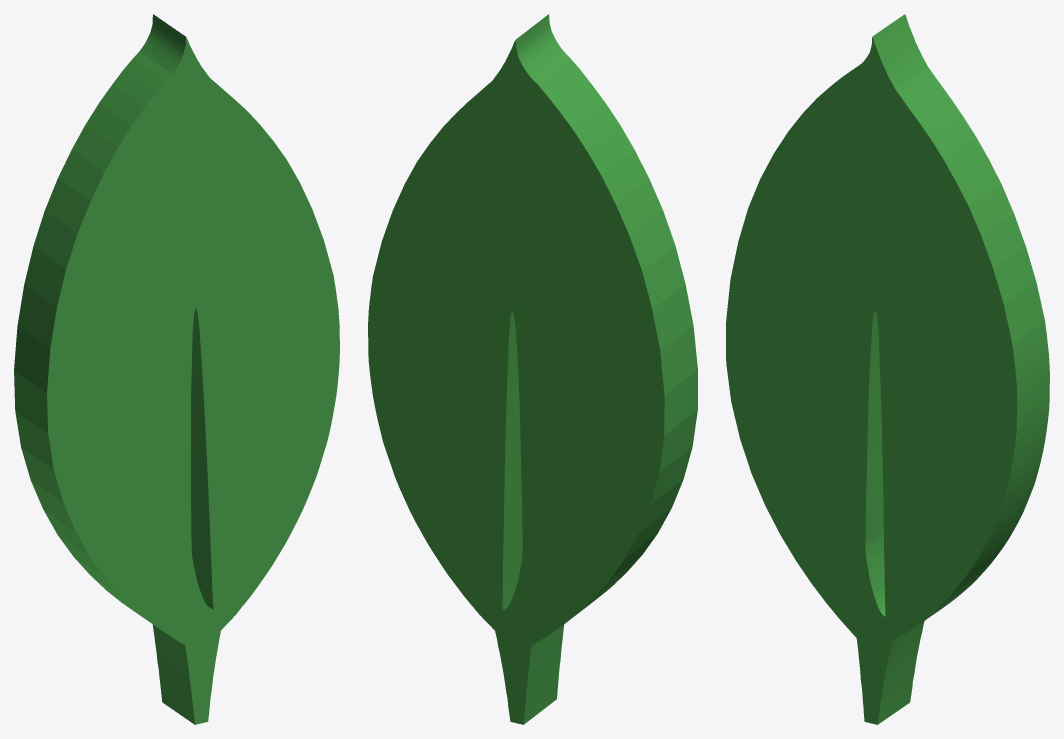
Rendered from Mongodb_mobile_model.glb.
The picture shows the model from 3 angles, left to right: view 1: azimuth 30°, elevation 25°; view 2: azimuth 150°, elevation 25°; view 3: azimuth 330°, elevation 25°; orthographic projection.
Parts seen in each view (by area): view 1: Curve; view 2: Curve; view 3: Curve.
Part boxes in pixels (<box>): Curve: <box>14,14,339,724</box>; Curve: <box>368,14,697,724</box>; Curve: <box>726,14,1049,724</box>.
Size of the model in its own units: 0.00304 by 0.00678 by 0.000742.
